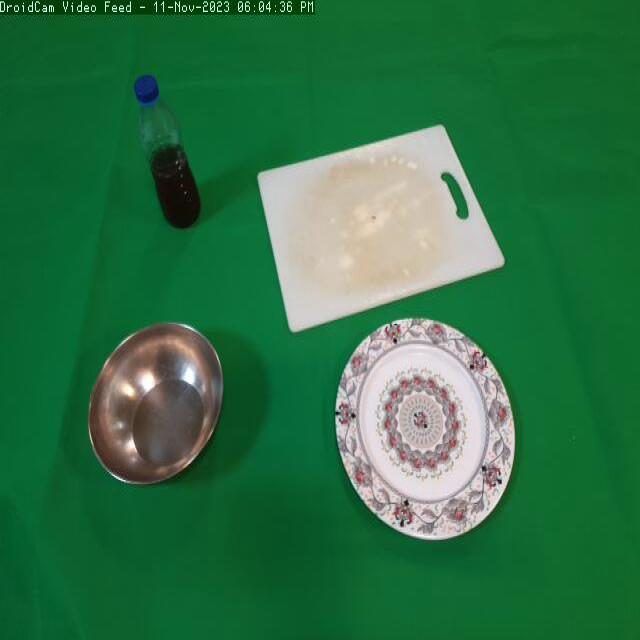bowl: (76, 310, 233, 491)
cutting board: (254, 118, 515, 344)
fullbottle: (127, 68, 208, 240)
plate: (331, 310, 524, 555)
